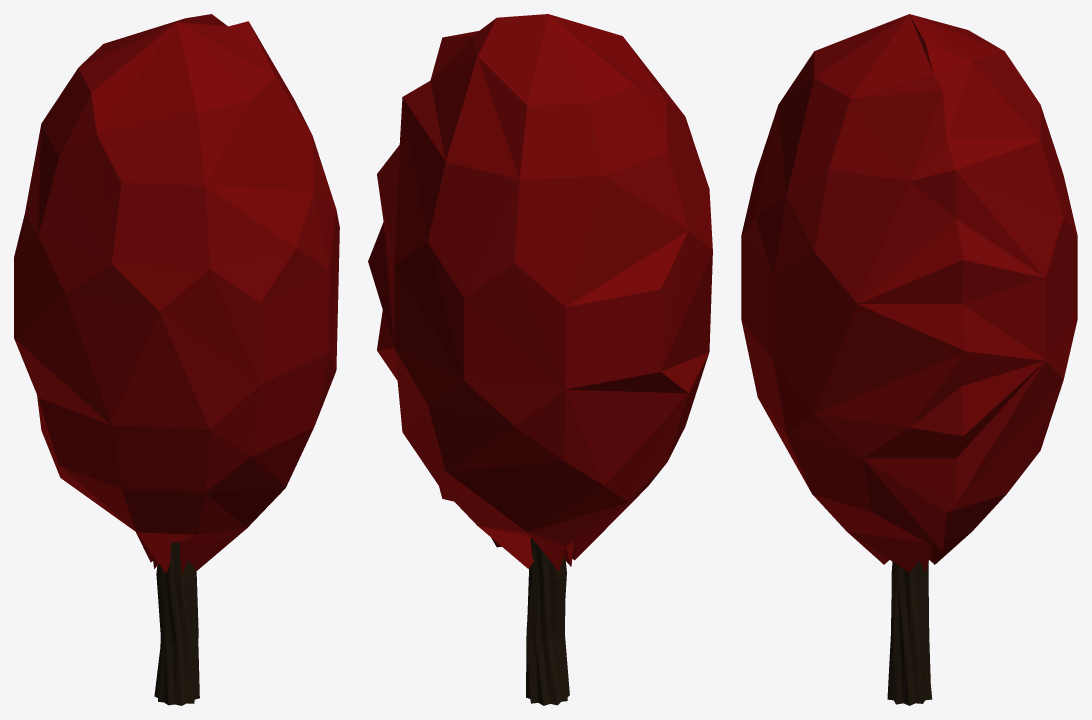
File: TallSkinnyTree_Red.fbx
The picture shows the model from 3 angles, left to right: view 1: azimuth 30°, elevation 25°; view 2: azimuth 150°, elevation 25°; view 3: azimuth 270°, elevation 25°; orthographic projection.
Visible parts, largest first — view 1: Trees:pSphere2, Trees:pCylinder2; view 2: Trees:pSphere2, Trees:pCylinder2; view 3: Trees:pSphere2, Trees:pCylinder2.
Boxes of the visible parts, box(x1,y1,x2,y2) form: Trees:pSphere2: box(14, 14, 339, 574); Trees:pCylinder2: box(154, 542, 199, 705); Trees:pSphere2: box(368, 14, 712, 571); Trees:pCylinder2: box(526, 537, 569, 705); Trees:pSphere2: box(741, 14, 1077, 572); Trees:pCylinder2: box(887, 561, 932, 705).
Size of the model in its own units: 0.1721 by 0.3842 by 0.1717.
